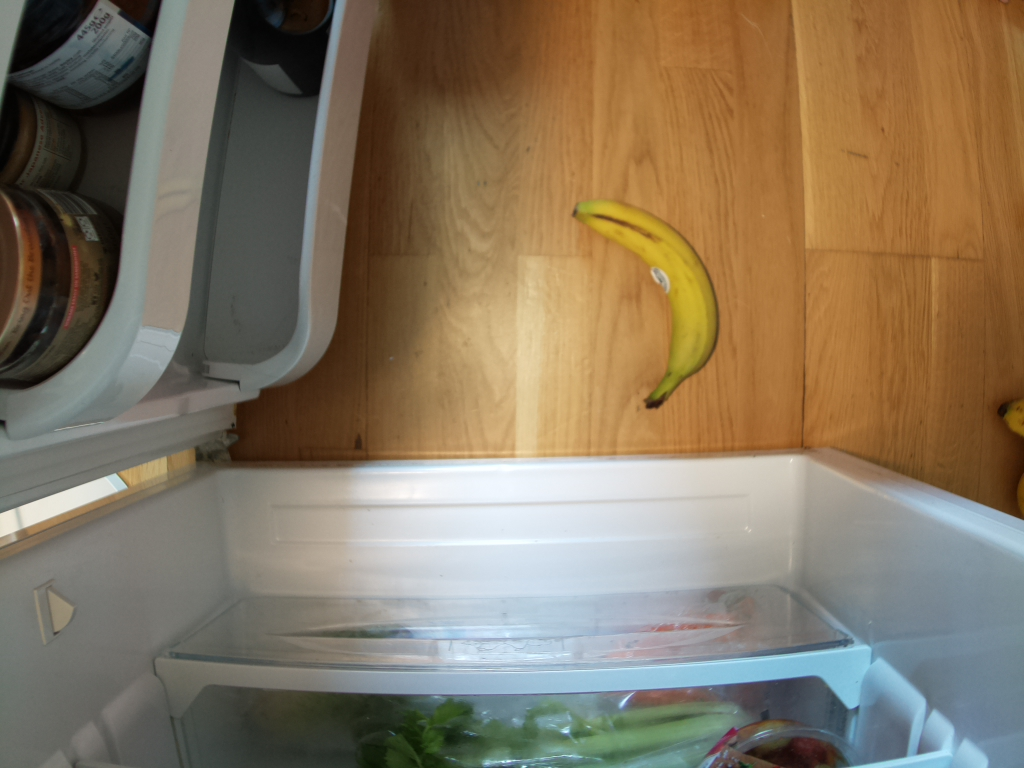banana-unripe: (566, 196, 715, 410)
